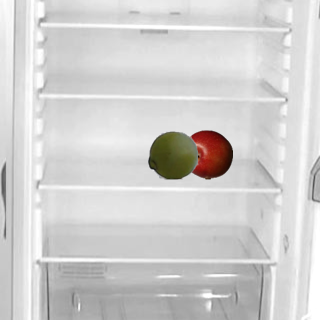Apple Braeburn: (182, 129, 232, 179)
Grape White 4: (147, 129, 197, 179)
